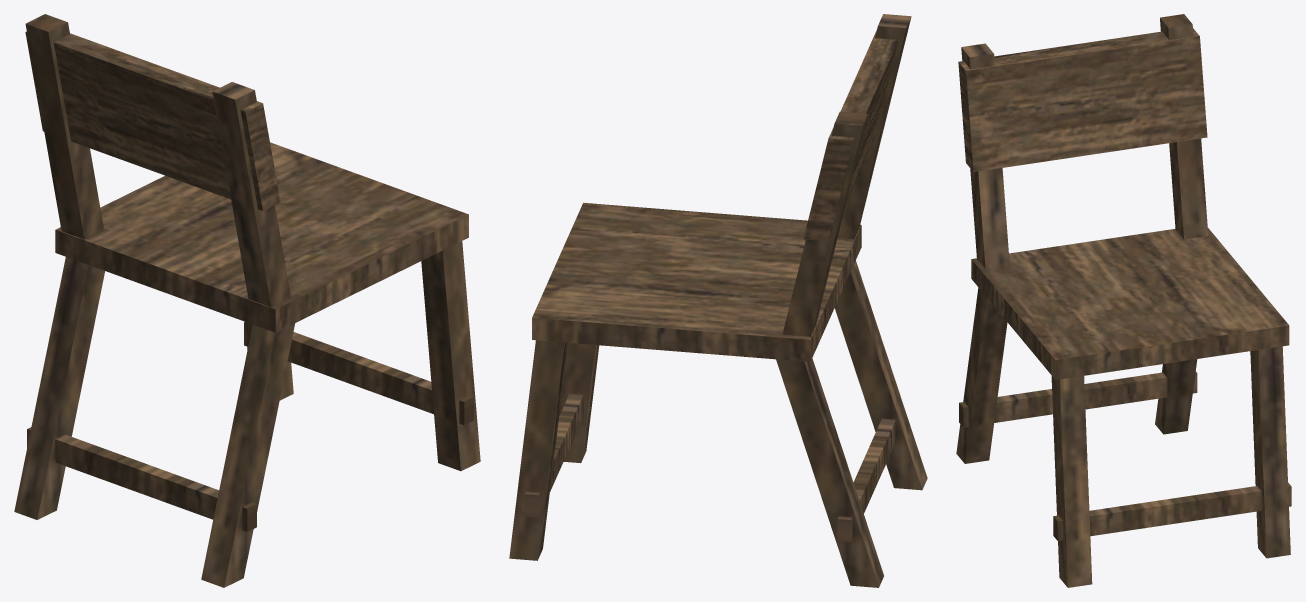
File: SM_Chair01.fbx
3 renders of one model, left to right at view 1: azimuth 30°, elevation 25°; view 2: azimuth 150°, elevation 25°; view 3: azimuth 270°, elevation 25°, orthographic. The views are drawn at different scales.
Visible parts, largest first — view 1: SM_Chair01; view 2: SM_Chair01; view 3: SM_Chair01.
Boxes of the visible parts, box(x1,y1,x2,y2) form: SM_Chair01: box(14, 14, 480, 587); SM_Chair01: box(509, 14, 927, 587); SM_Chair01: box(956, 14, 1291, 587).
Size of the model in its own units: 1.07 by 1.23 by 0.9095.
1 material, 1 textured.
